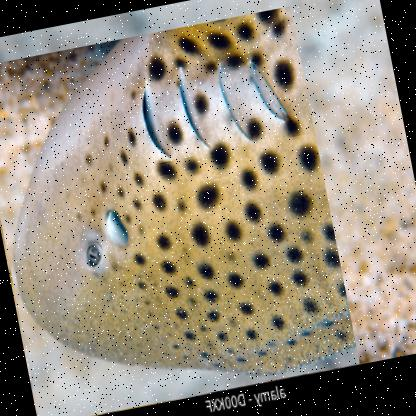zebra_shark: (0, 6, 360, 415)
